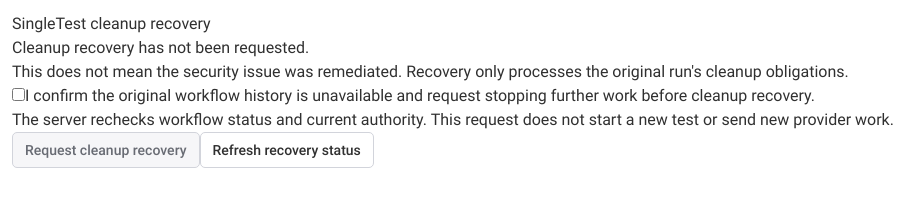
Test: connected cleanup recovery › replays the frozen request after parent version advancement and prevents replay after permission loss
Later steps or results of the test are not shown.
Click the checkbox. click: {"x": 18, "y": 94}
box: [12,88,25,101]
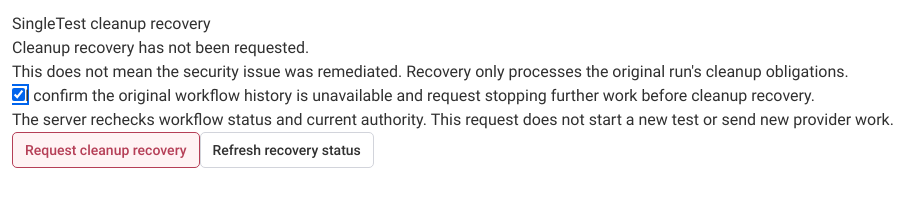
Click the button "Request cleanup recovery". click: {"x": 106, "y": 150}
box: [12,132,200,168]
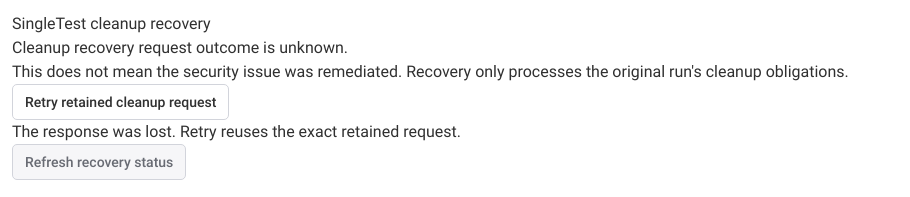
Now the button "Retry retained cleanup request" is shown, box [12,84,229,120]
